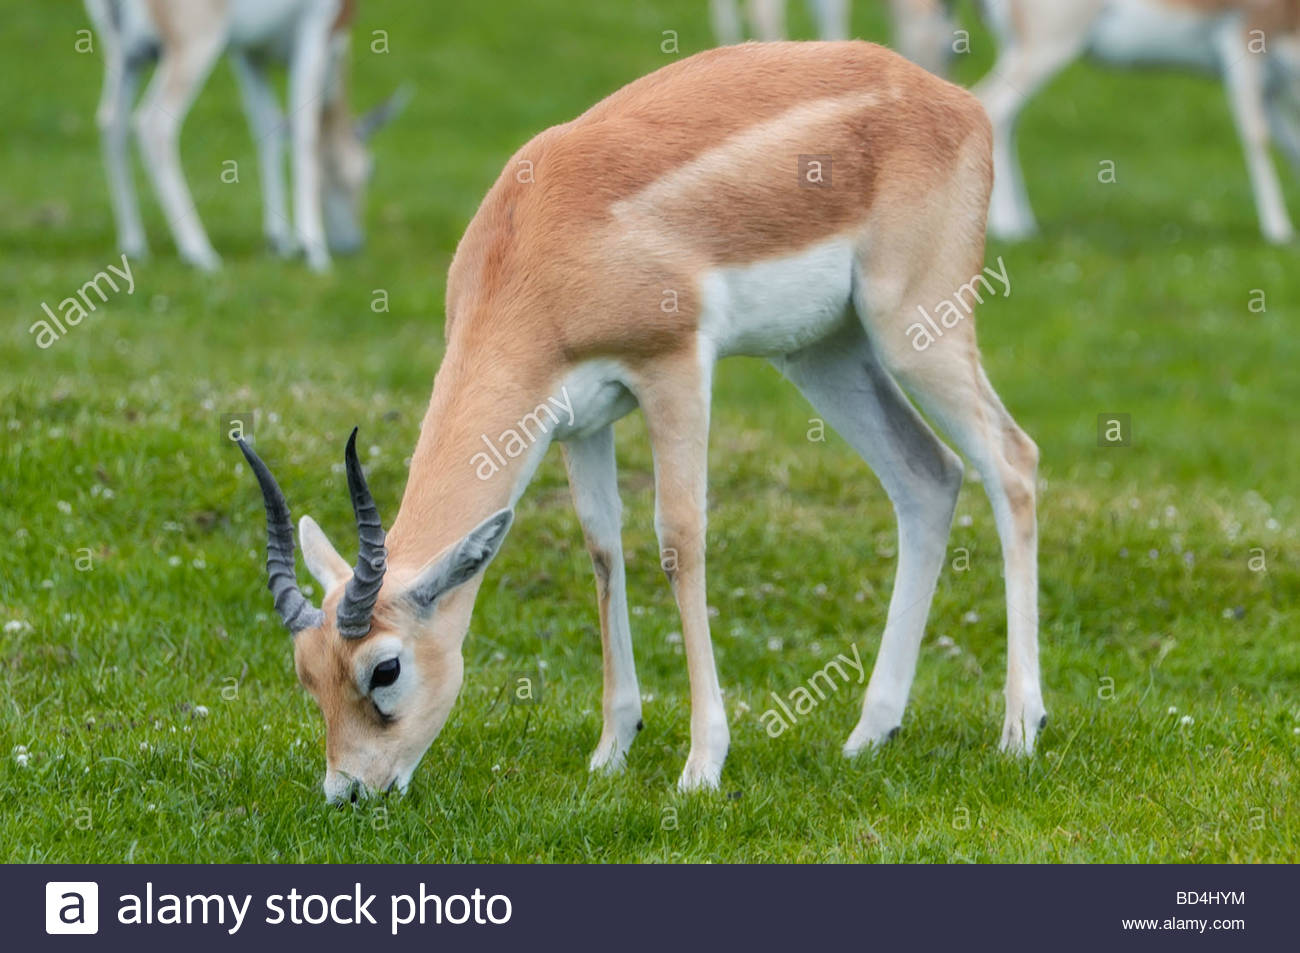Deer: (237, 44, 1055, 812)
